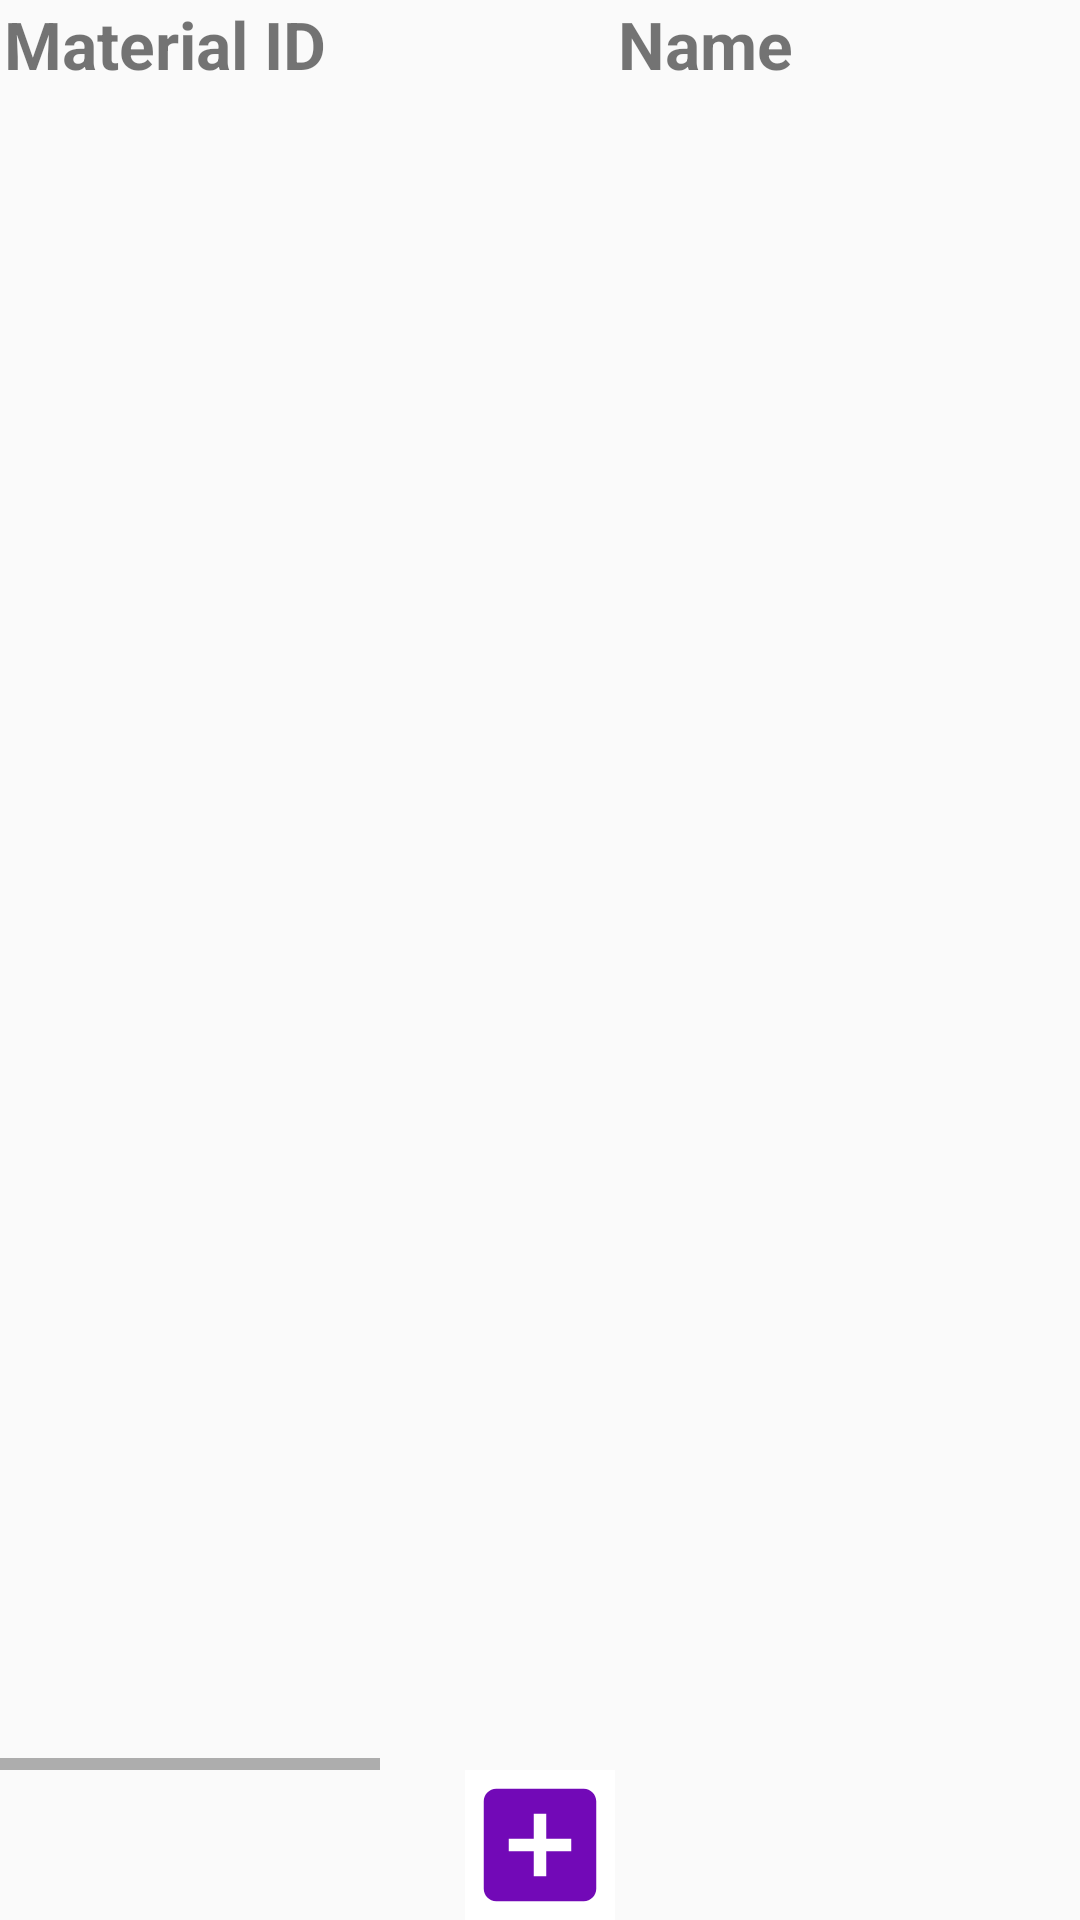

Icons on this 1080 × 1920 Android screen, each with its box as (x1, y1, x2, y2):
add: (483, 1788, 597, 1902)
